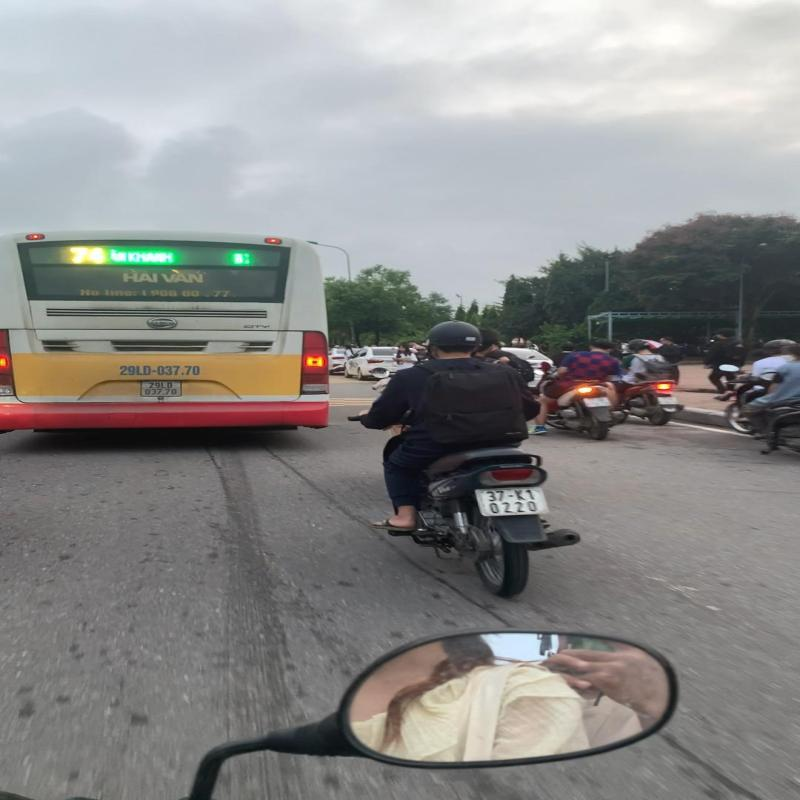helmet: (426, 320, 486, 356)
licenseplate: (471, 484, 556, 519)
motorcyclist: (345, 318, 588, 600)
